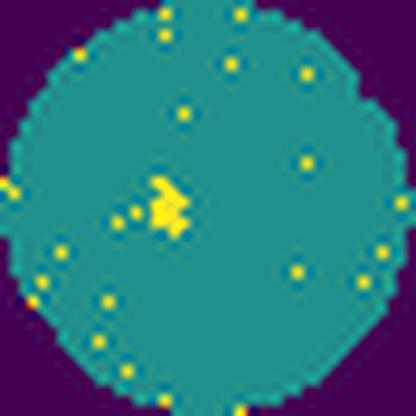Edge-Loc: (147, 172, 190, 242)
